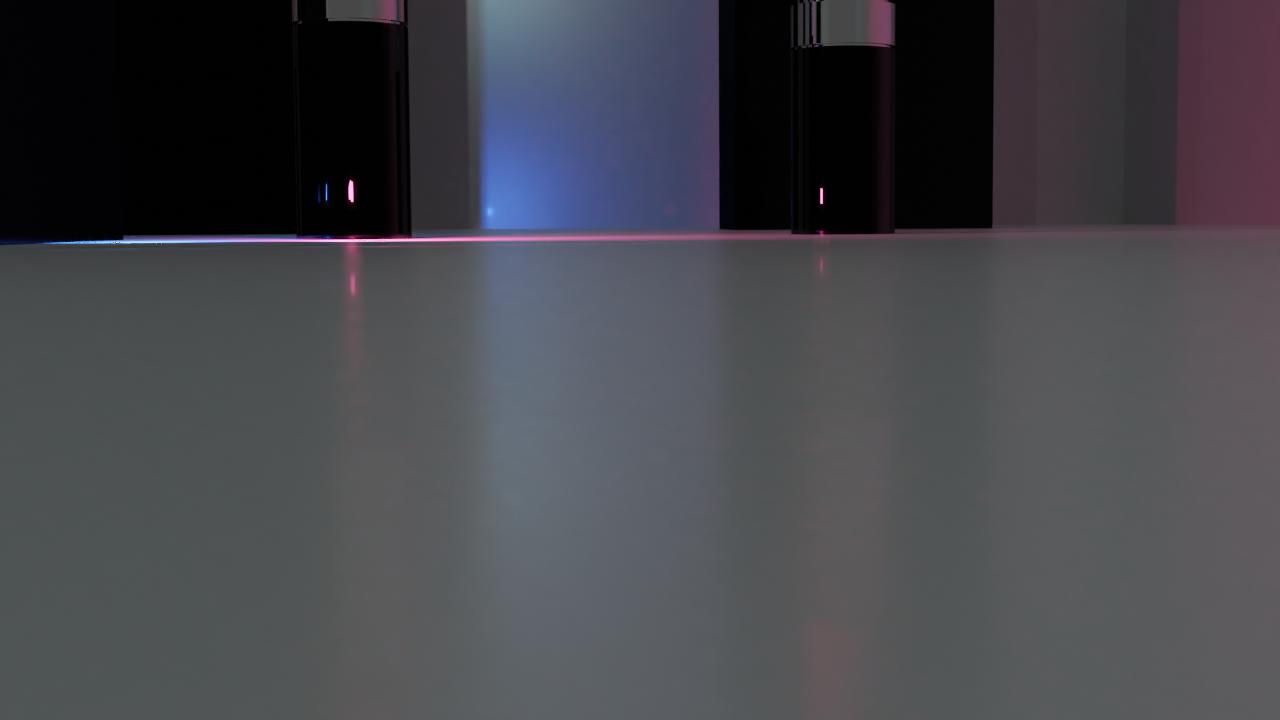CLASSIFIER_NAME: (288, 0, 414, 239), (789, 0, 898, 242)
